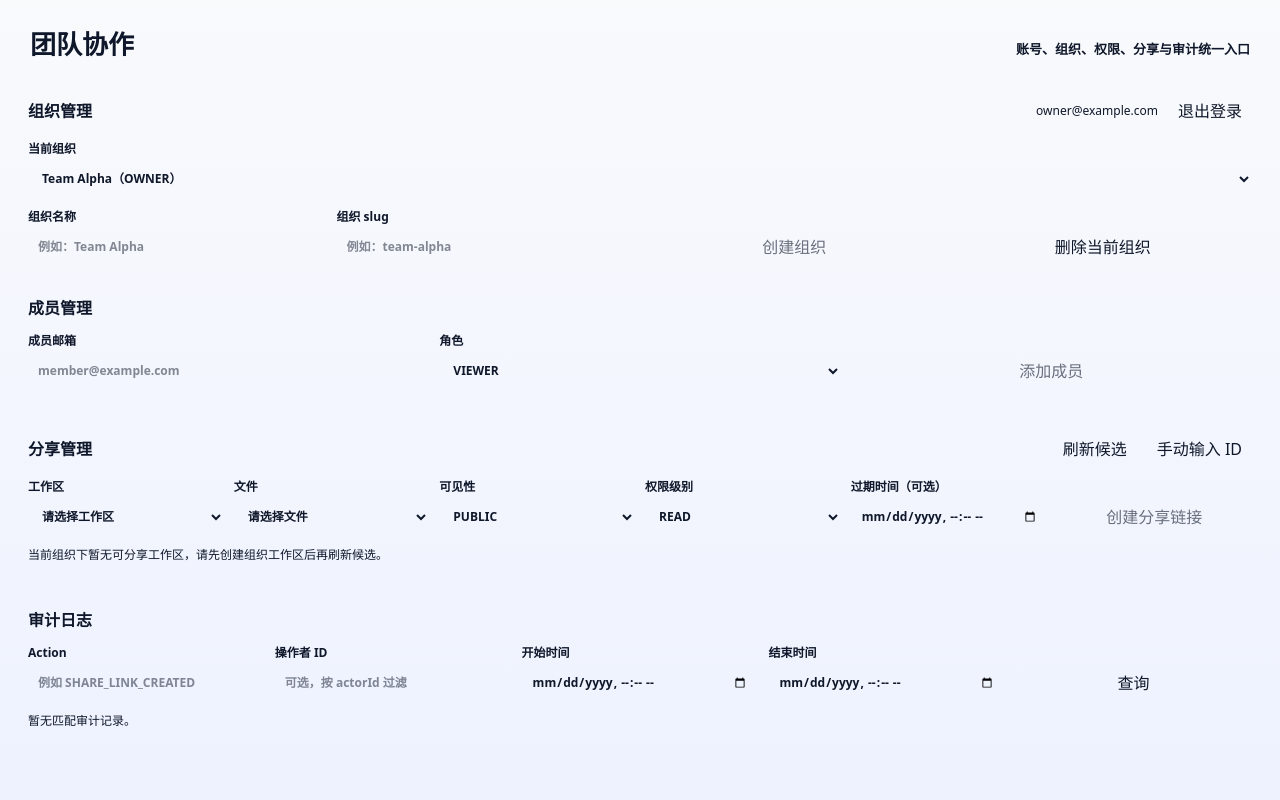
Test case: TeamPage › shows explicit error feedback when audit query fails
The image size is (1280, 800).
Click the button with test id "team-audit-query" at (1134,682), box top-left (1015, 666), bottom-right (1252, 700)
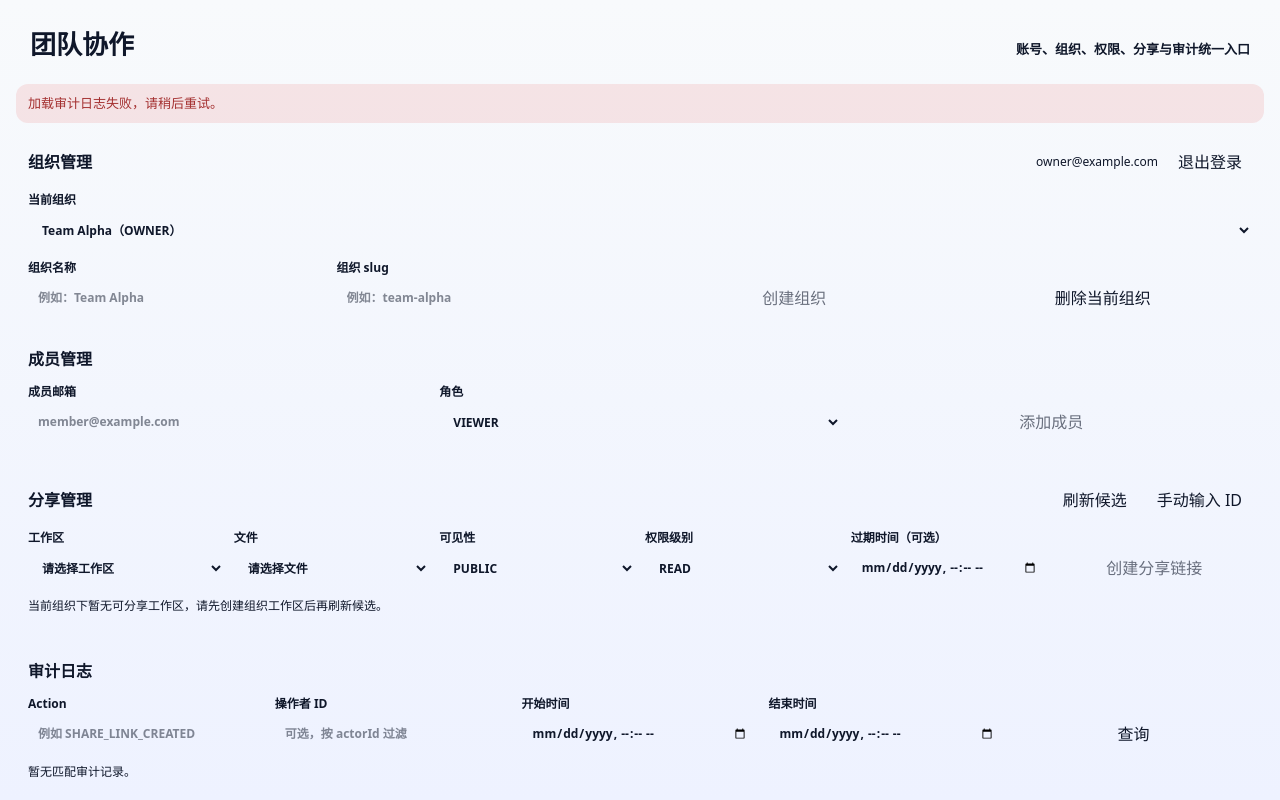
Expected: the text with test id "team-error" shows "加载审计日志失败", top-left (28, 94), bottom-right (223, 112)
